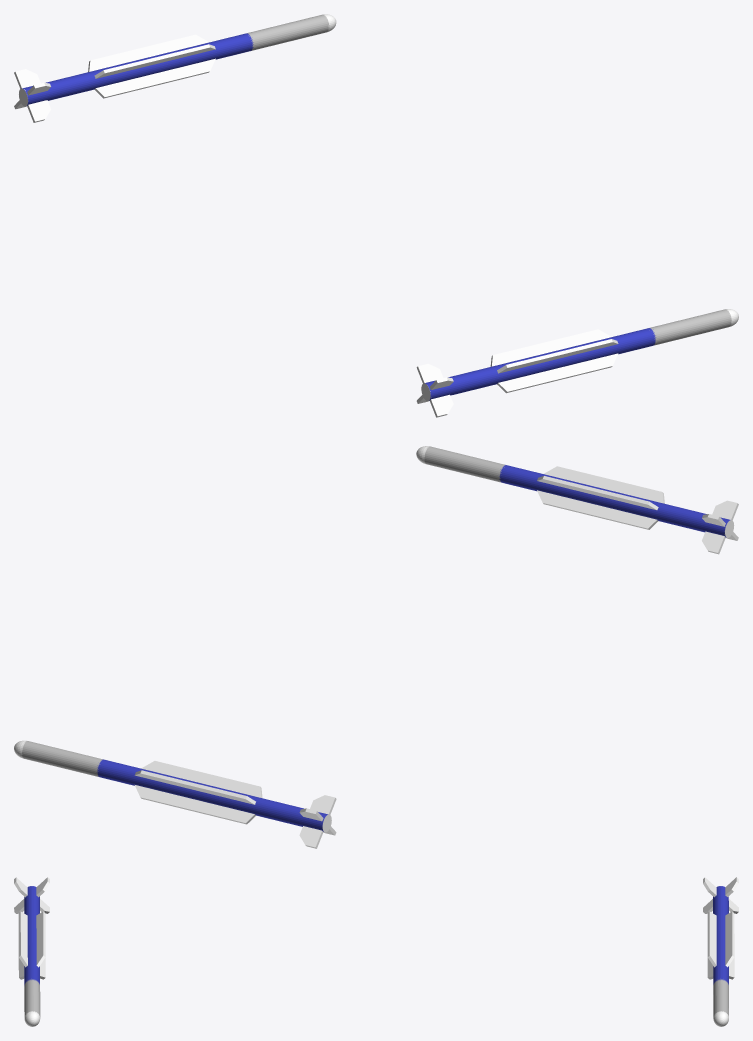
Rendered from aam5df2a25.glb.
The picture shows the model from 3 angles, top to bottom: view 1: azimuth 30°, elevation 25°; view 2: azimuth 150°, elevation 25°; view 3: azimuth 270°, elevation 25°; orthographic projection. The views are drawn at different scales.
Visible parts, largest first — view 1: 立方体.016, 立方体.045; view 2: 立方体.016, 立方体.045; view 3: 立方体.045, 立方体.016.
Part boxes in pixels (bbox=[...]): 立方体.016: bbox=[14, 14, 336, 122]; 立方体.045: bbox=[416, 309, 738, 417]; 立方体.016: bbox=[14, 740, 336, 848]; 立方体.045: bbox=[416, 446, 738, 554]; 立方体.045: bbox=[14, 877, 49, 1026]; 立方体.016: bbox=[703, 877, 738, 1026].
Bounding box in the file's own units: 4.09 × 0.4776 × 9.6.
3 materials, 1 textured.
